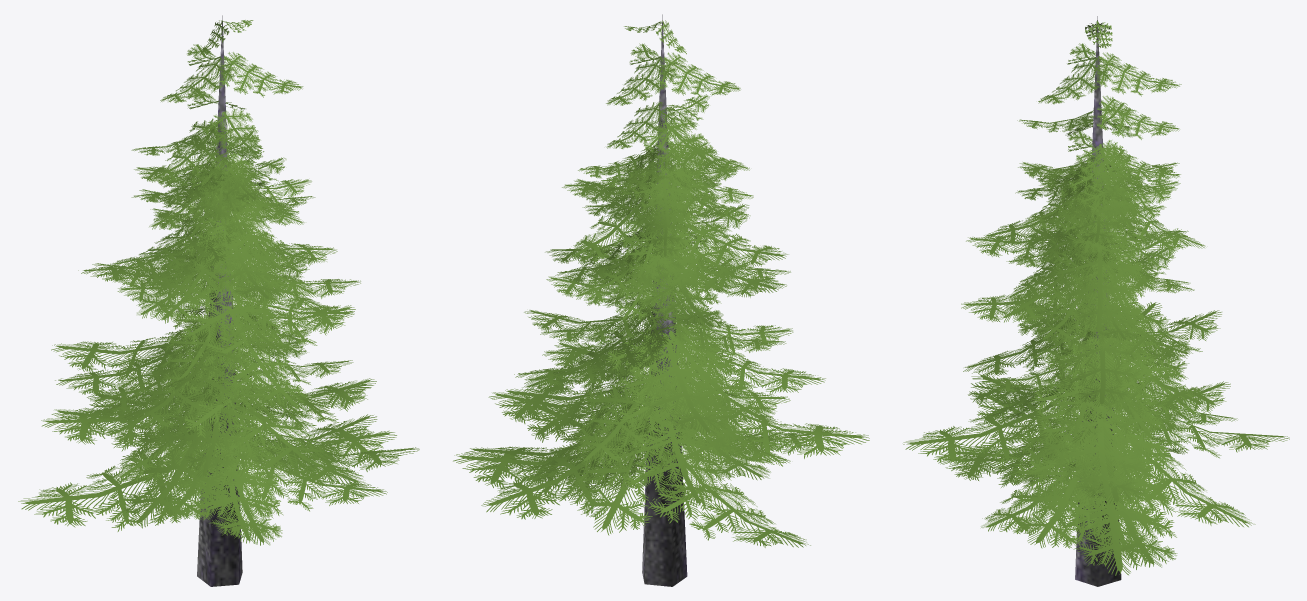
Rendered from Spruce2.fbx.
3 renders of one model, left to right at view 1: azimuth 30°, elevation 25°; view 2: azimuth 150°, elevation 25°; view 3: azimuth 270°, elevation 25°, orthographic.
Parts seen in each view (by area): view 1: Spruce Tree Trunk 2; view 2: Spruce Tree Trunk 2; view 3: Spruce Tree Trunk 2.
Boxes of the visible parts, <box> form: Spruce Tree Trunk 2: <box>18,15,419,586</box>; Spruce Tree Trunk 2: <box>453,14,869,586</box>; Spruce Tree Trunk 2: <box>903,16,1289,586</box>.
Bounding box in the file's own units: 354 × 528 × 334.
